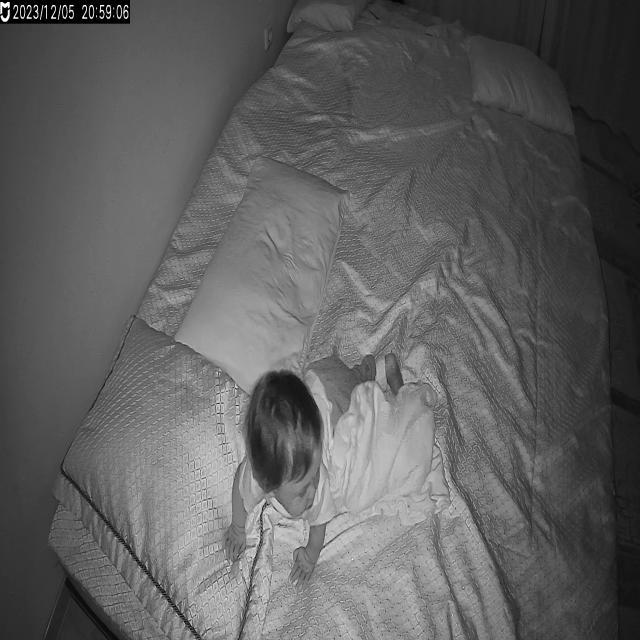baby: (219, 348, 407, 592)
